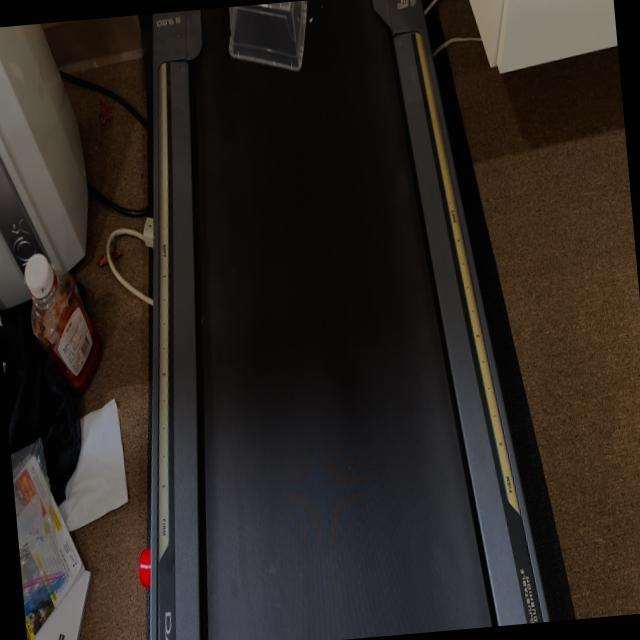Trash: (215, 0, 322, 70)
